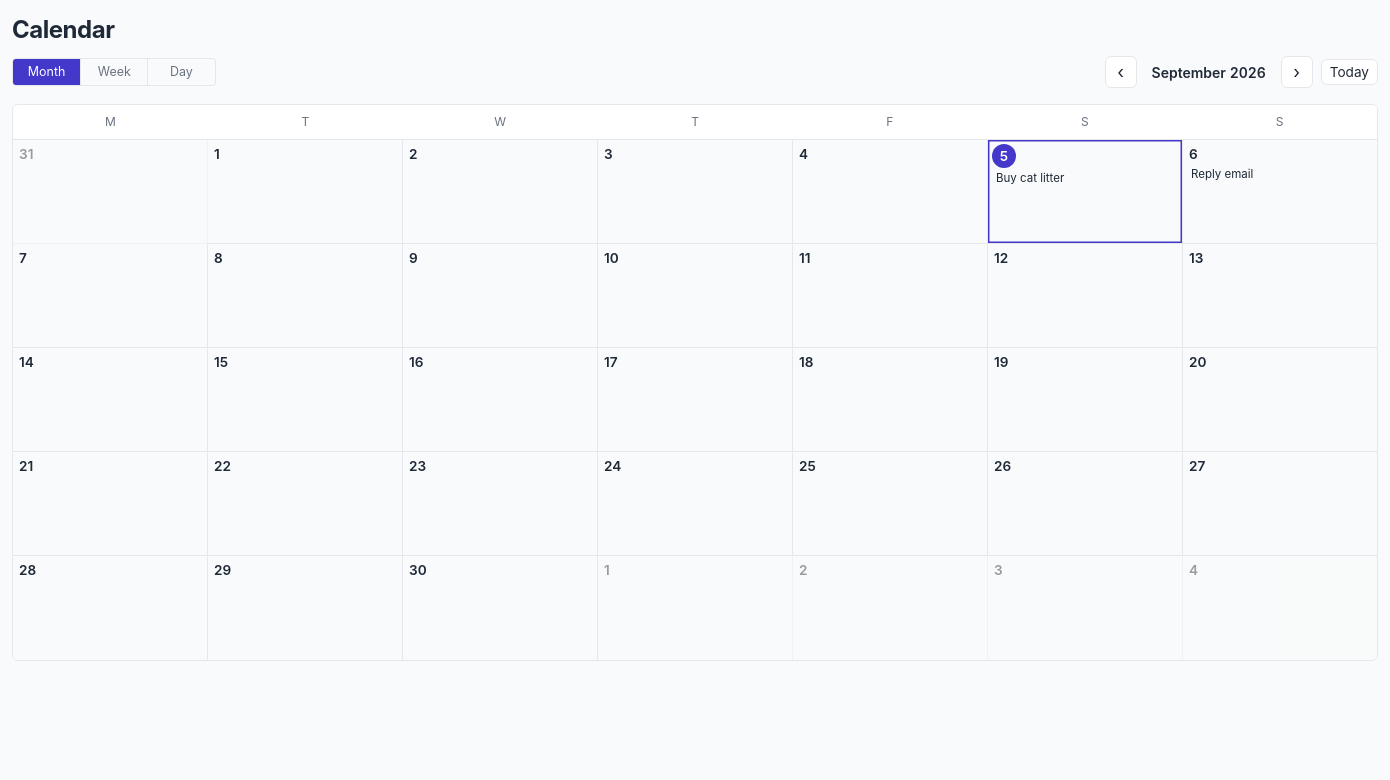
CalendarView › keeps month view aligned after week navigation
This screenshot has width=1390, height=780.
Click the button "Week": (114, 72) [80,59,147,85]
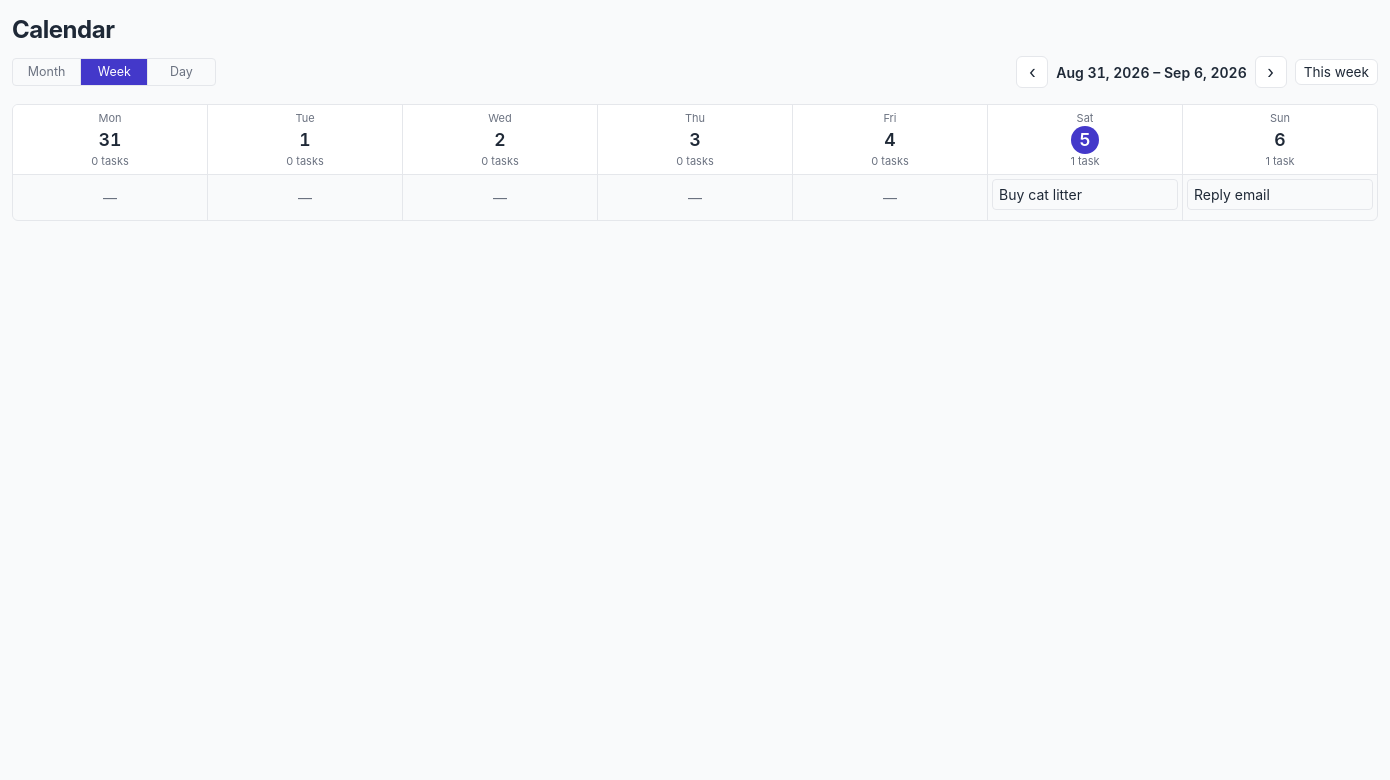
Click the button named "Next week": (1271, 72) [1255,56,1287,88]
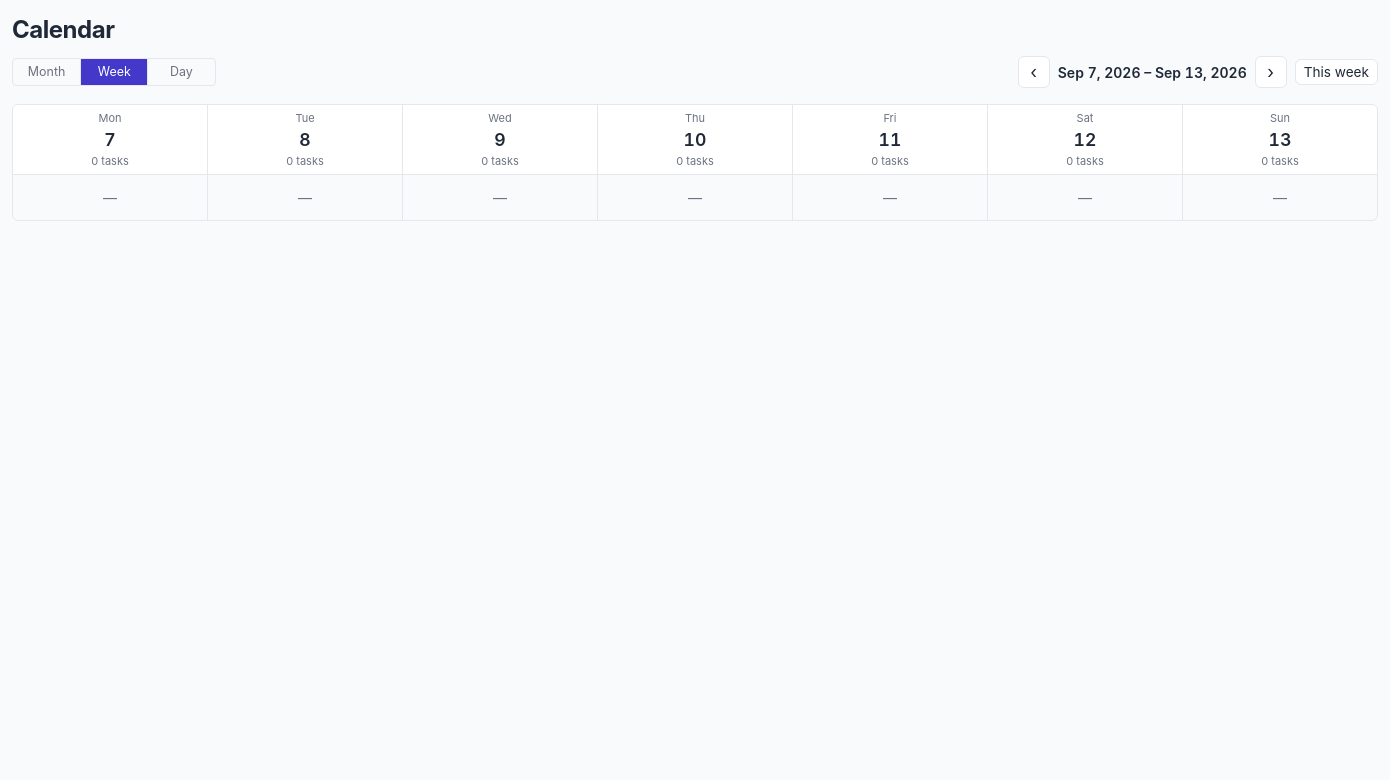
Click the button named "Next week": (1271, 72) [1255,56,1287,88]
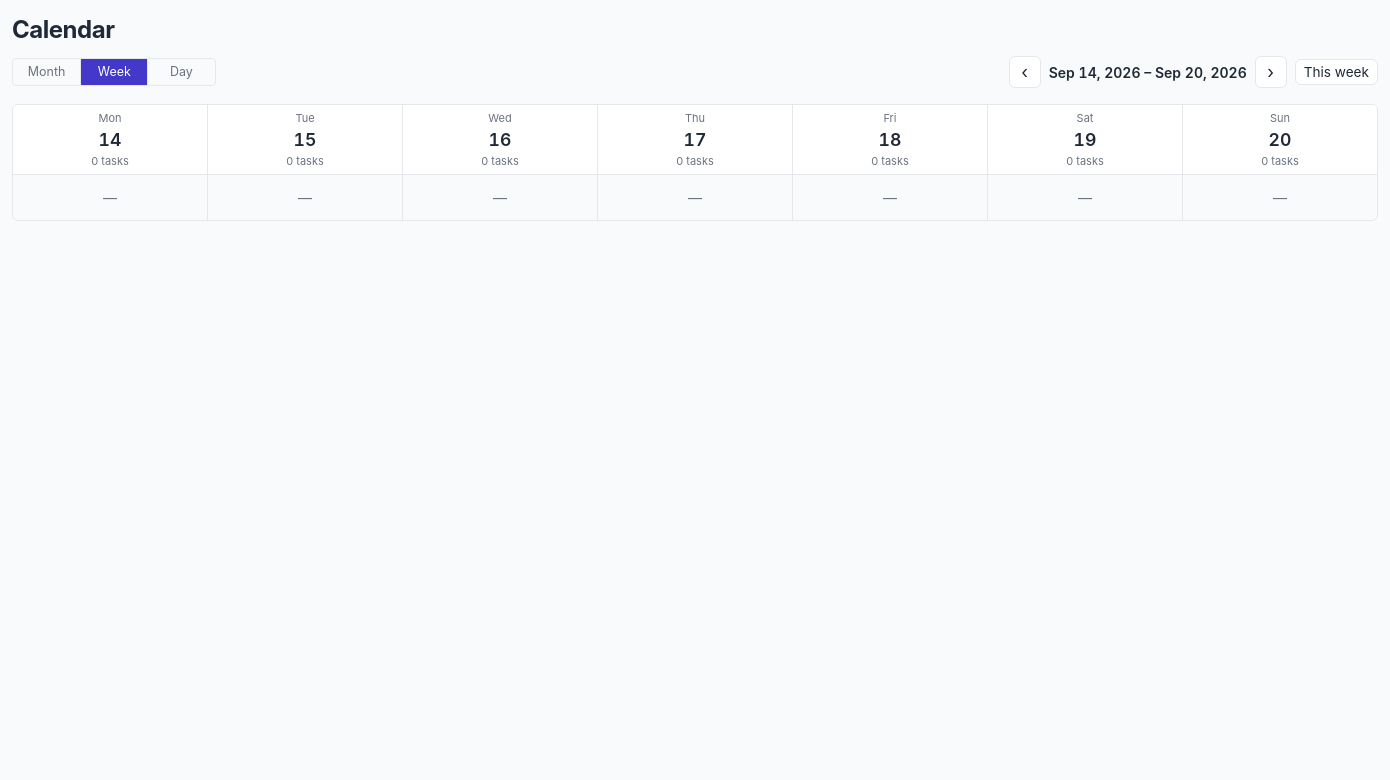
Click the button named "Next week": (1271, 72) [1255,56,1287,88]
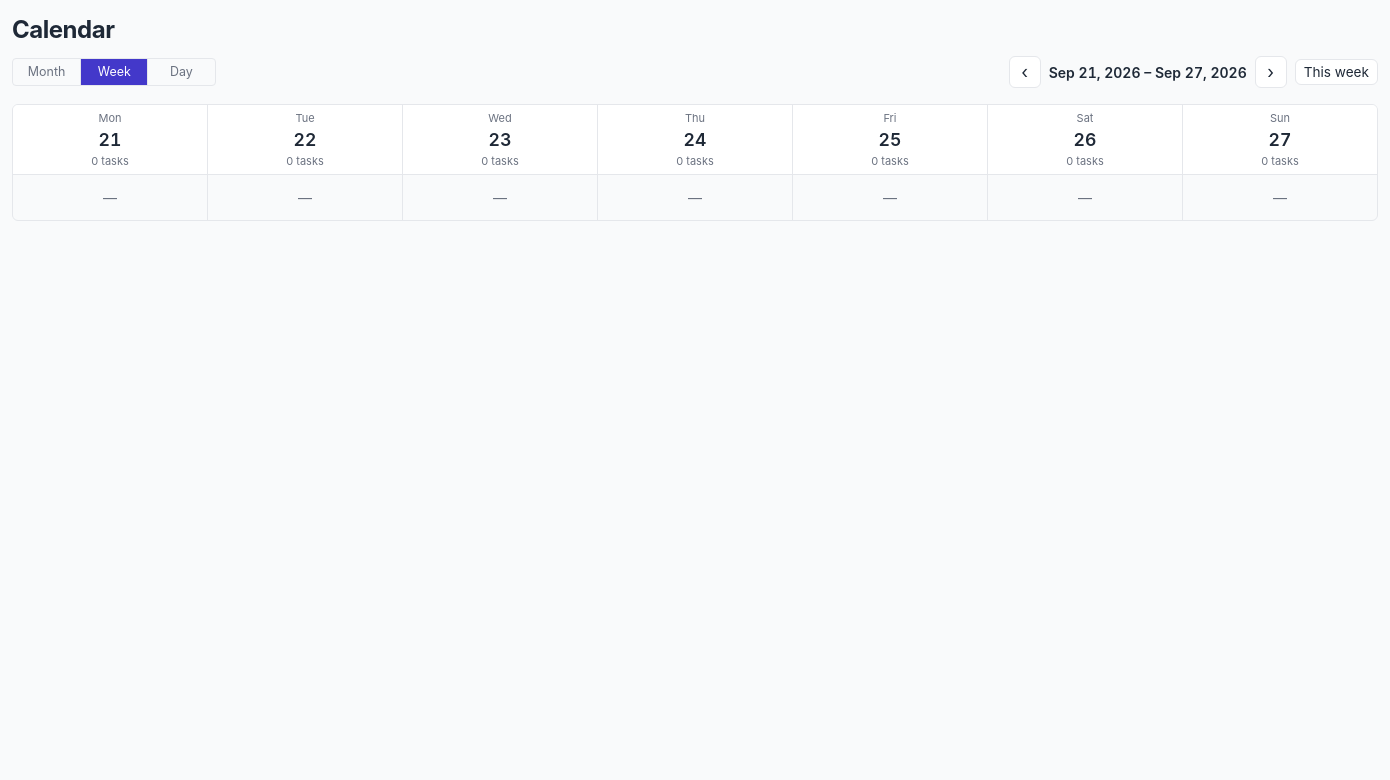
Click the button named "Next week": (1271, 72) [1255,56,1287,88]
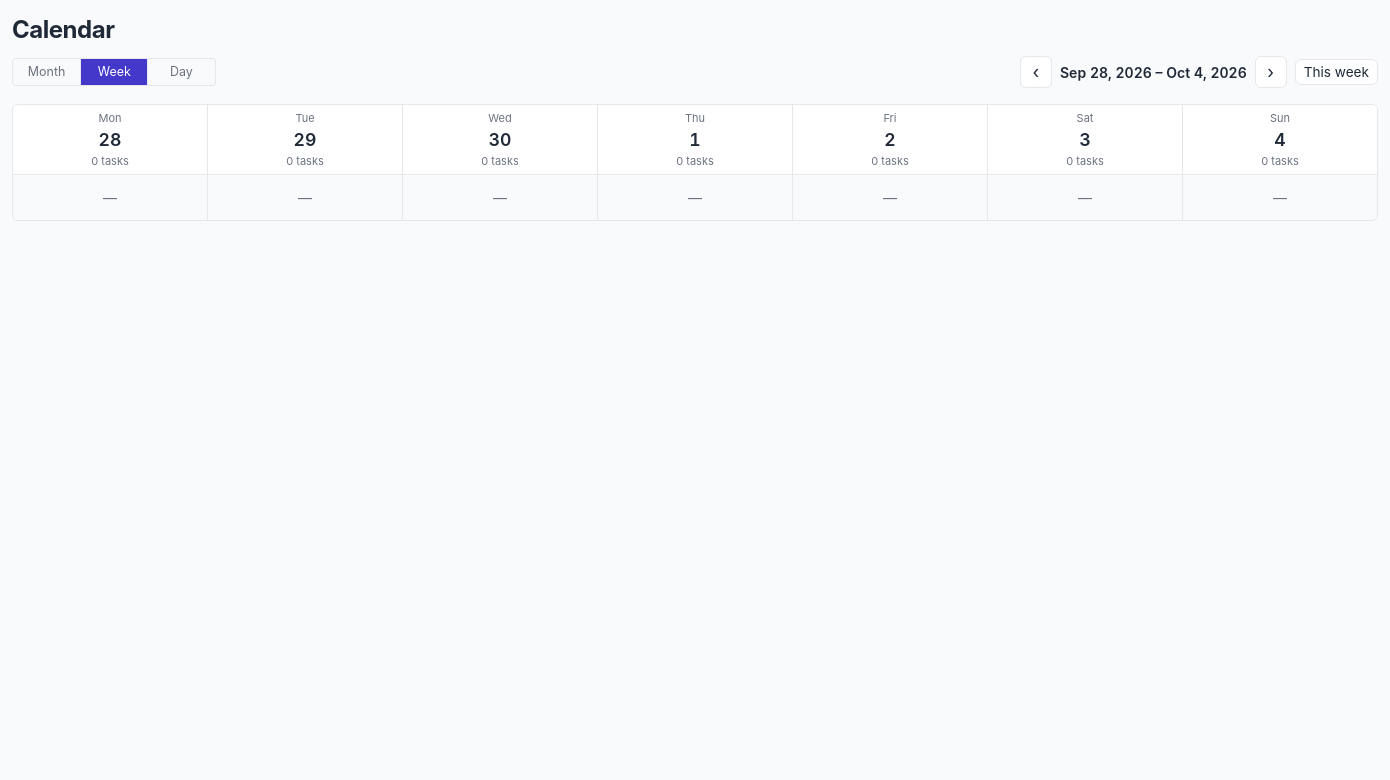
Click the button "Month": (47, 72) [13,59,80,85]
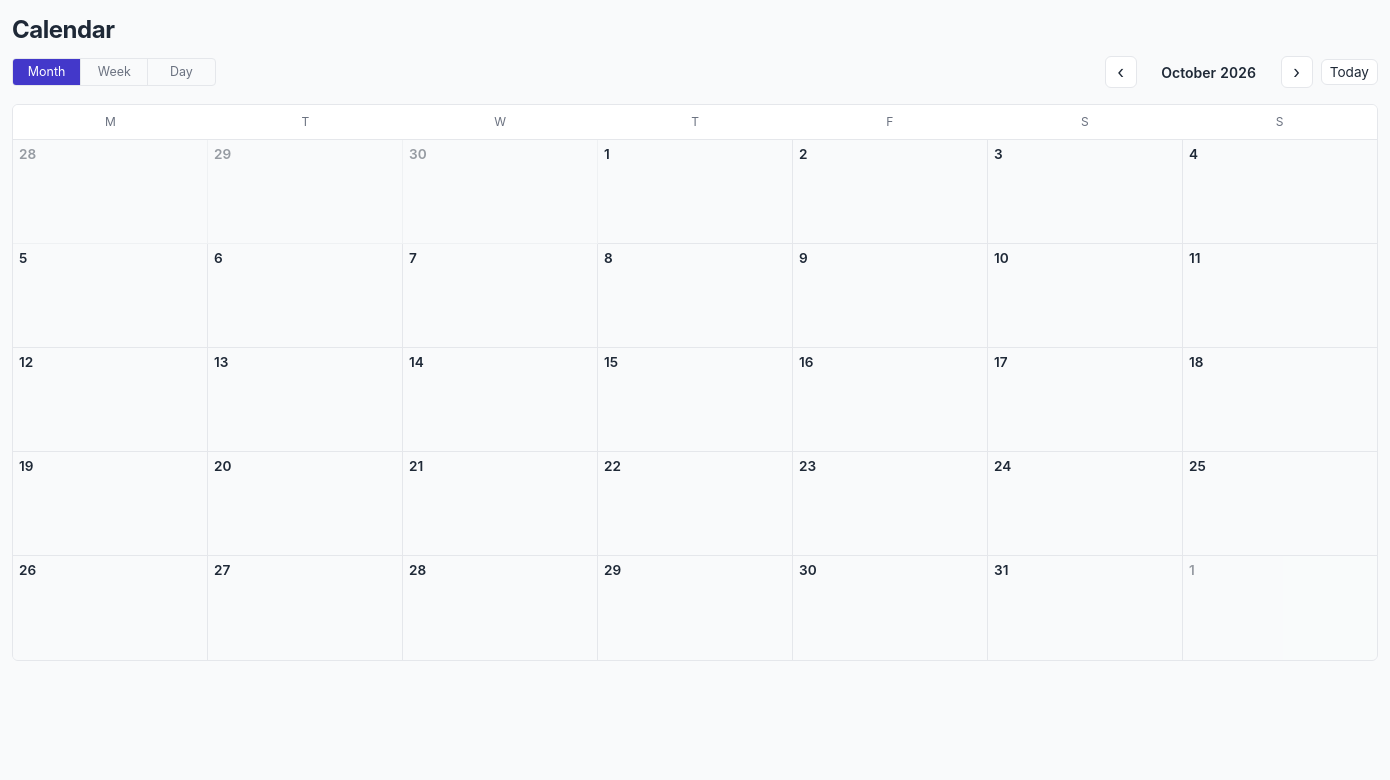
Now the text "October 2026" is shown, box [1161,64,1256,80]
